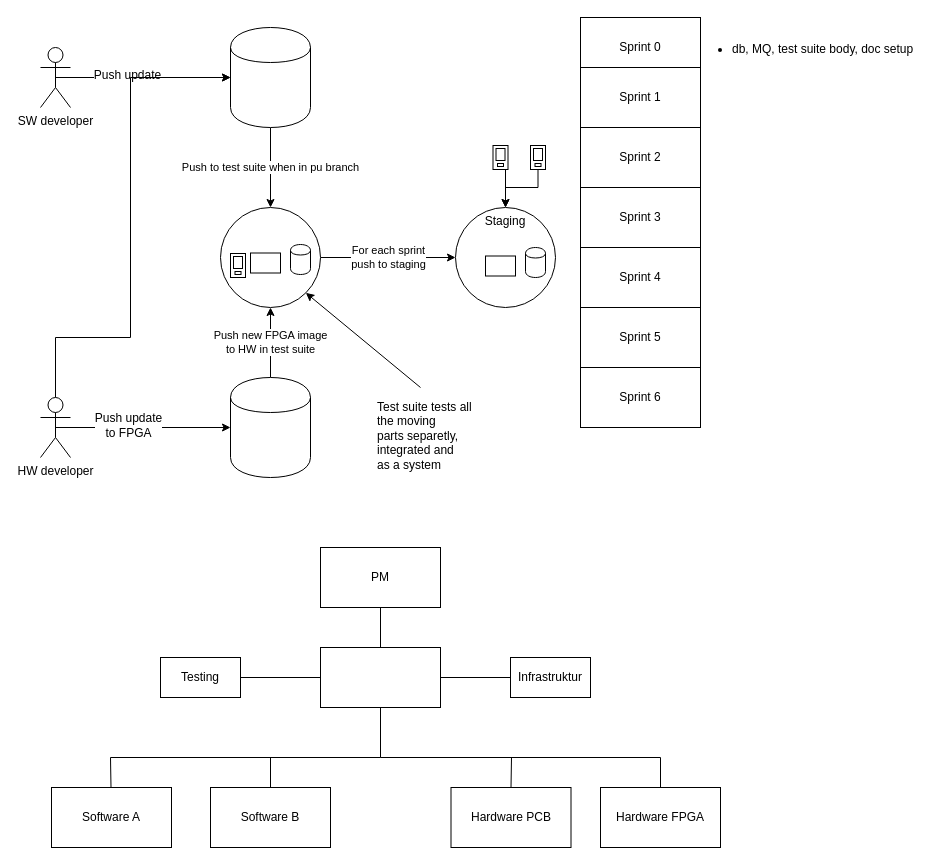
This 947x865 diagram has some shape labels left out. The shapes that lost their labels are listed below. From the top down, each one's box as (x1, y1, x2, y2) in pixels, then its label:
(230, 26, 310, 128): GitLab
(220, 206, 320, 308): Test suite
(230, 376, 310, 478): Repository manager
(320, 646, 440, 708): Emil Technical PM
